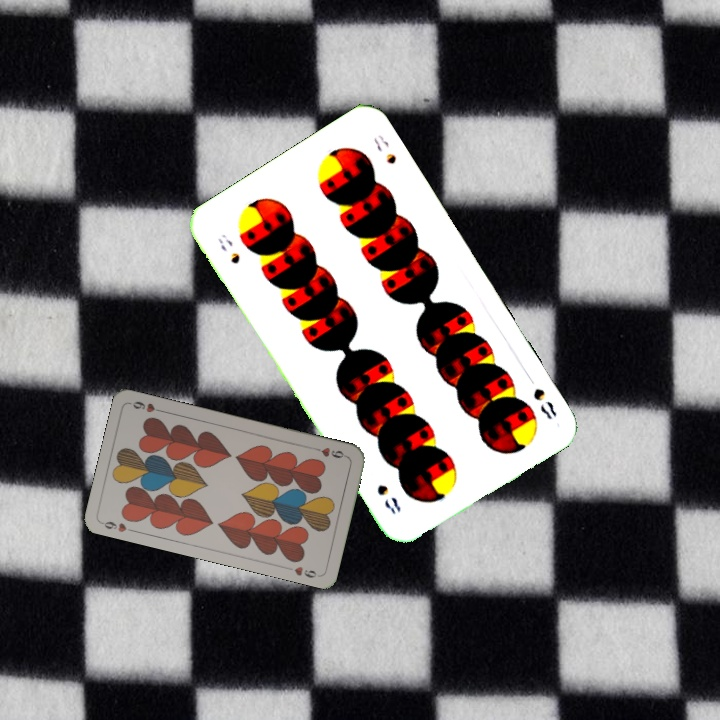H9: (310, 443, 350, 461), (98, 517, 138, 535)
S8: (529, 384, 560, 423), (213, 229, 243, 267)
